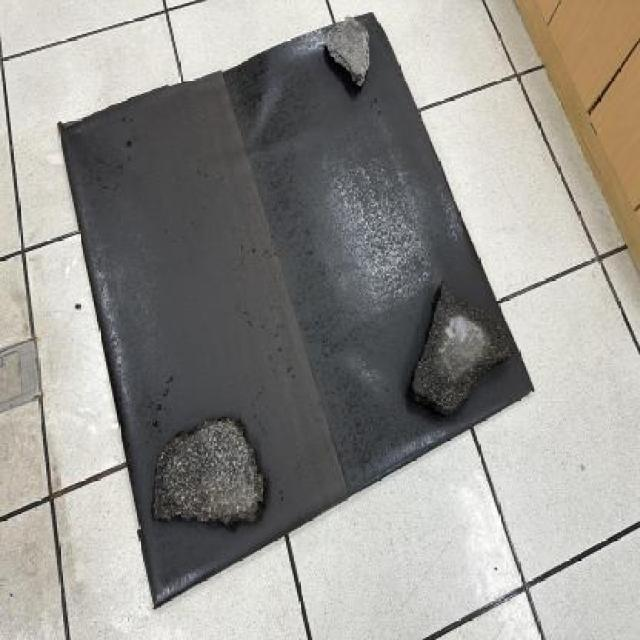Road Debris: (154, 433, 214, 524), (410, 344, 473, 406), (328, 20, 376, 60)
